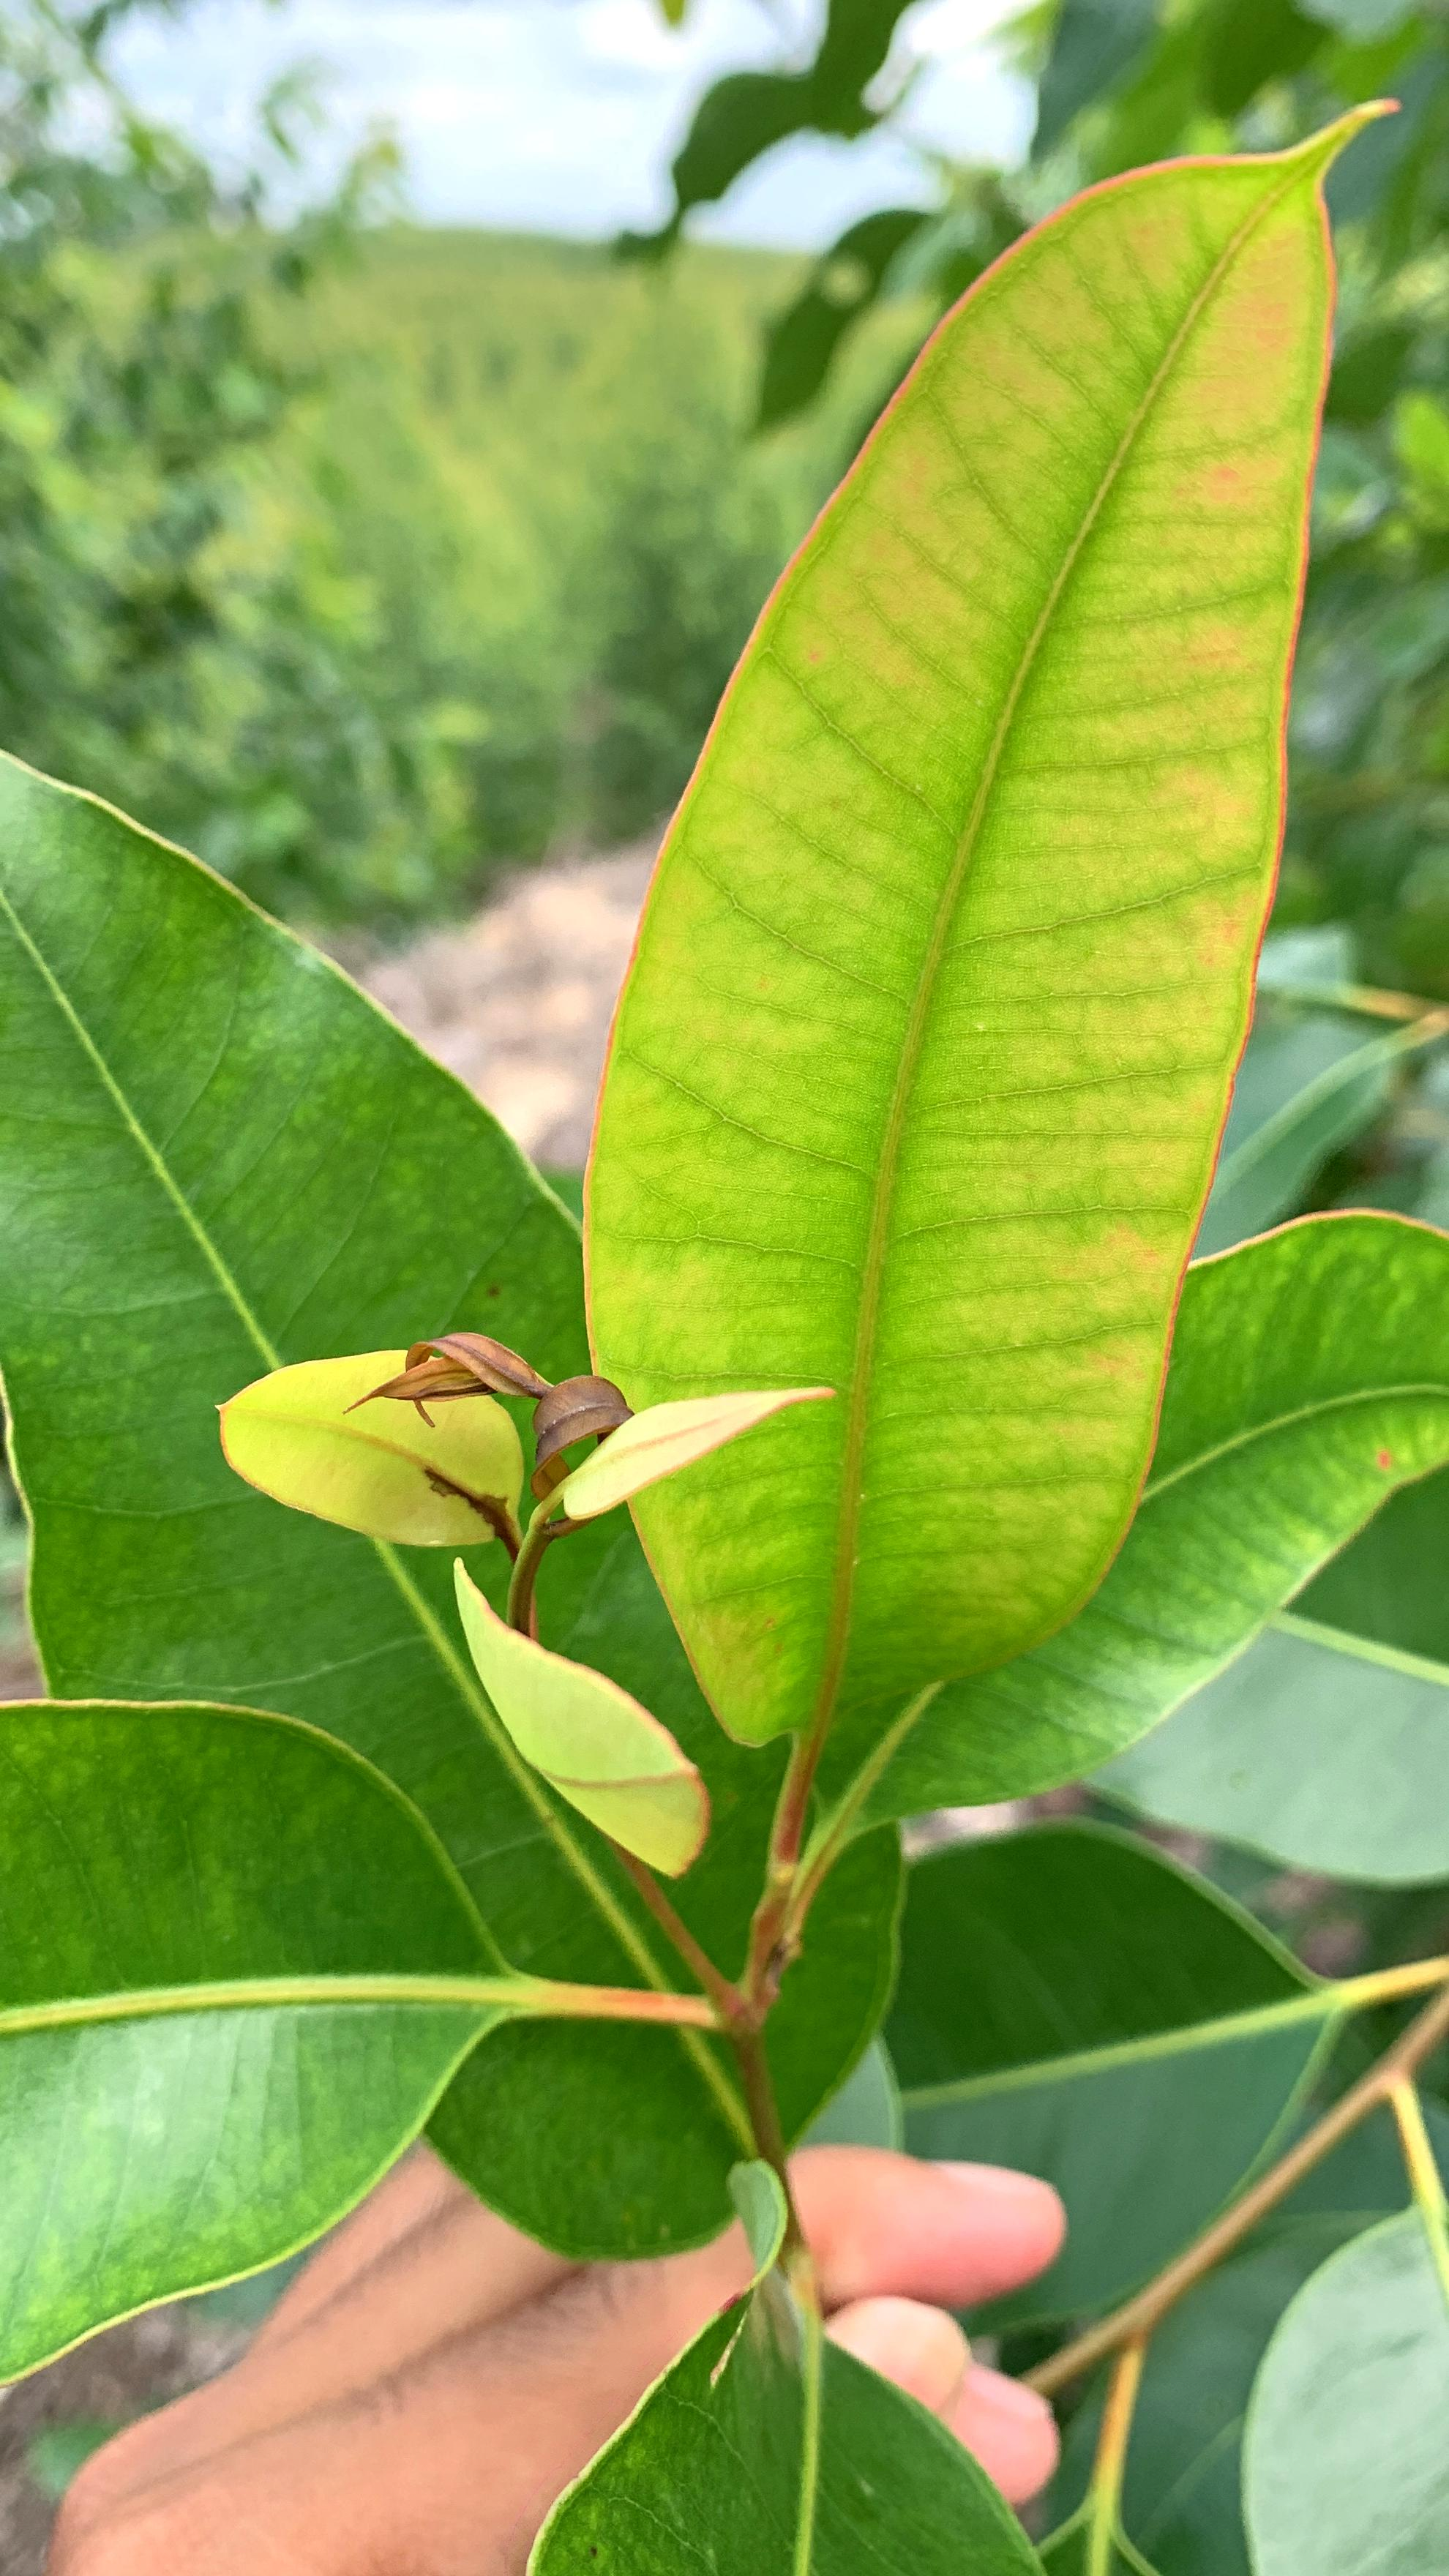Helopeltis-Withered Sprout: (372, 1267, 690, 1564)
